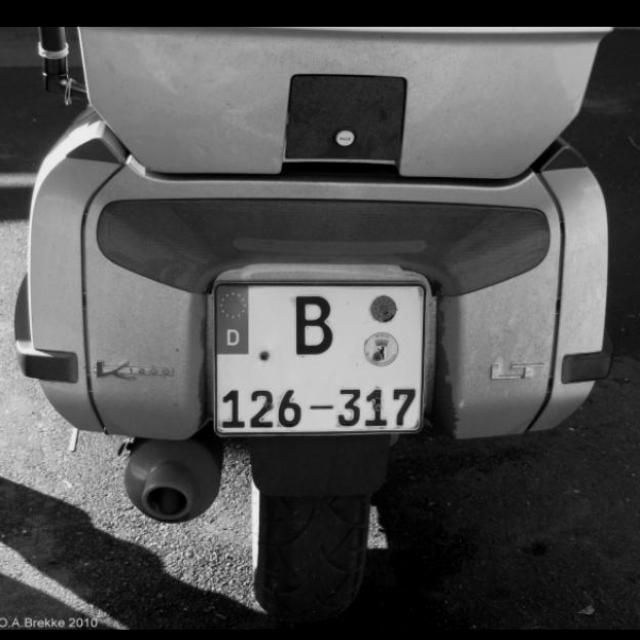licenseplate: (214, 282, 420, 432)
